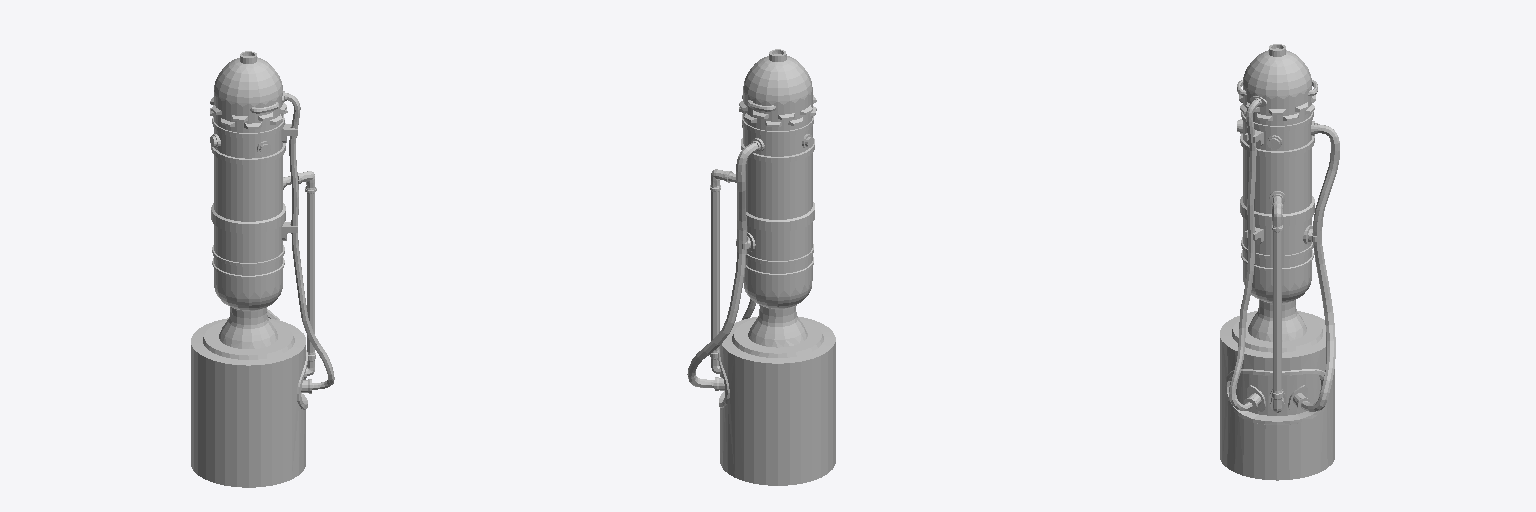
File: medic_tank.obj
The picture shows the model from 3 angles: view 1: azimuth 30°, elevation 25°; view 2: azimuth 150°, elevation 25°; view 3: azimuth 270°, elevation 25°; orthographic projection.
Visible parts, largest first — view 1: Mesh_0020.rip; view 2: Mesh_0020.rip; view 3: Mesh_0020.rip.
Boxes of the visible parts, <box> form: Mesh_0020.rip: <box>191,51,334,487</box>; Mesh_0020.rip: <box>687,49,835,485</box>; Mesh_0020.rip: <box>1220,44,1339,480</box>.
Bounding box in the file's own units: 0.6038 × 2 × 0.5347.